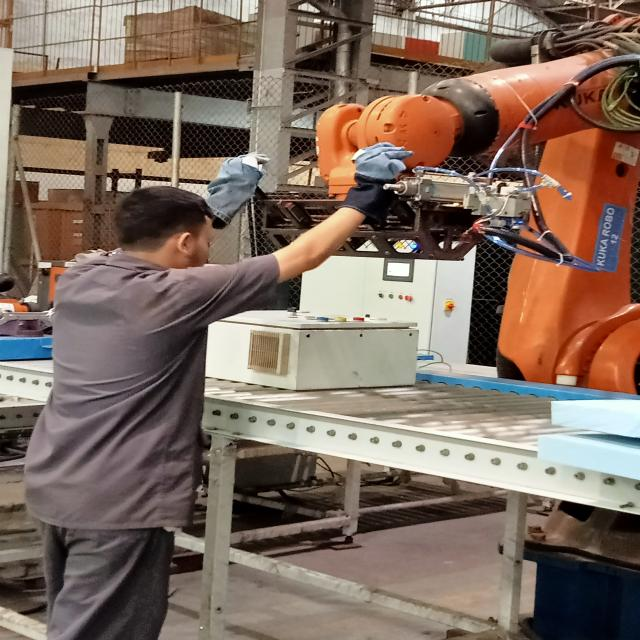Gloves-Detection: (214, 155, 258, 219), (347, 150, 386, 220)
